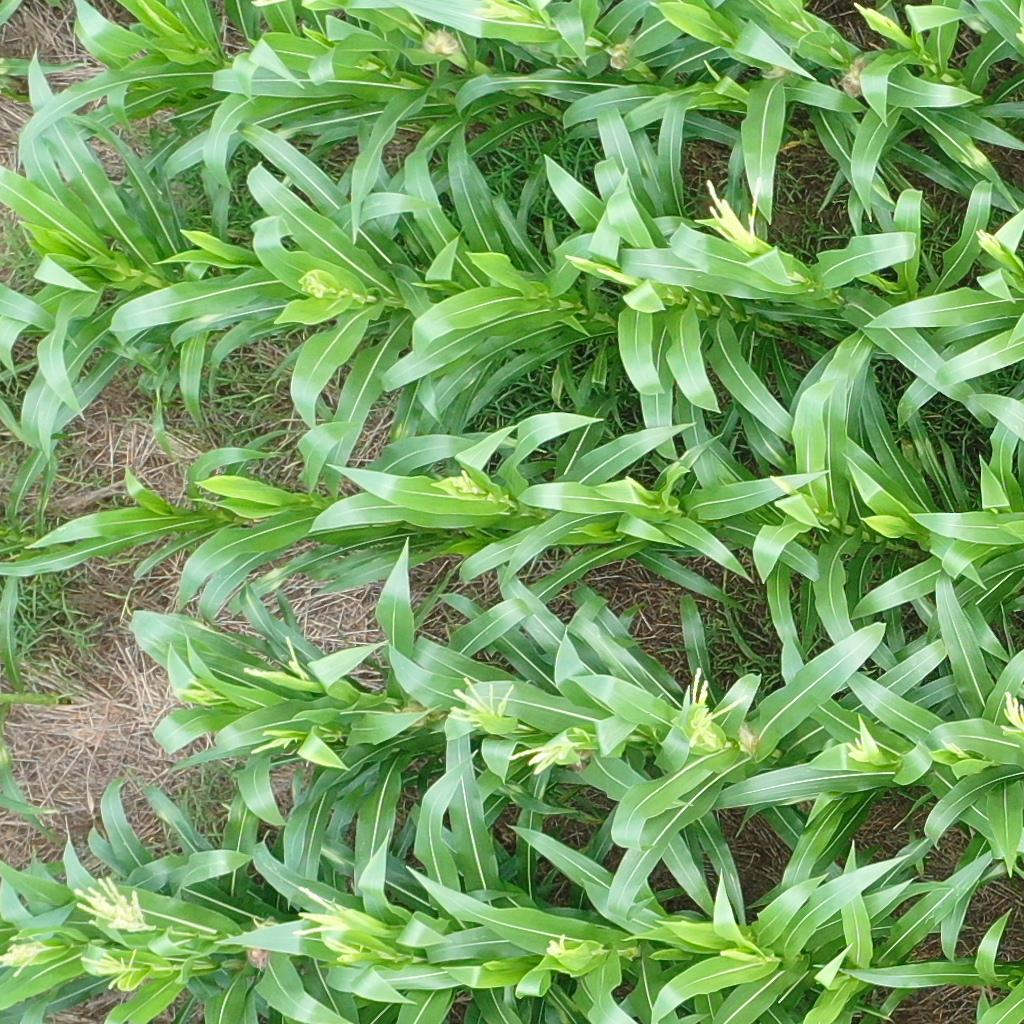Tassel: (291, 883, 384, 971), (678, 667, 752, 754), (699, 176, 765, 256), (70, 875, 156, 935), (444, 675, 516, 742), (239, 638, 312, 684), (79, 950, 143, 990), (1, 935, 52, 977), (507, 747, 584, 772), (851, 1, 895, 35), (592, 265, 645, 290), (250, 730, 299, 756), (999, 689, 1023, 738), (296, 271, 330, 304), (445, 470, 482, 497), (472, 1, 525, 19), (841, 735, 875, 762), (972, 226, 1003, 255), (939, 736, 970, 761), (543, 933, 568, 959)
